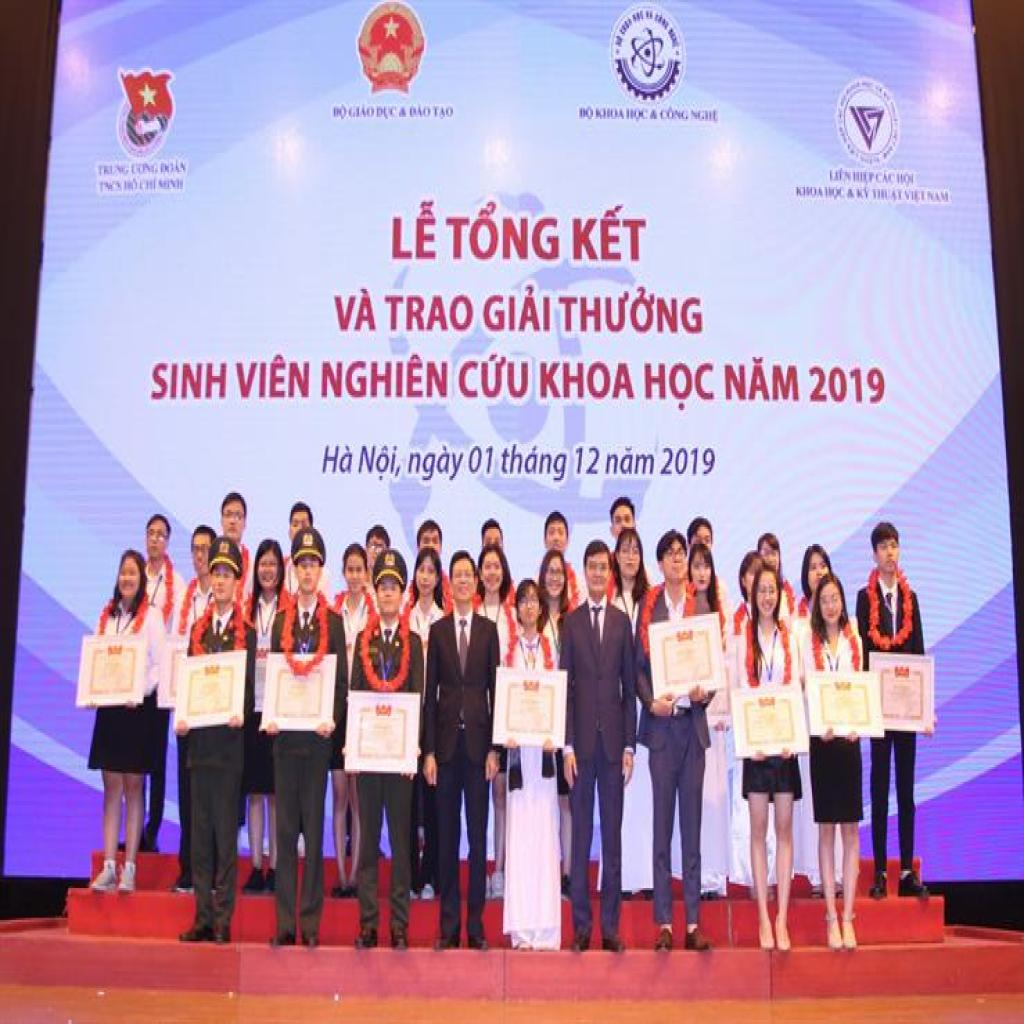text: (446, 198, 561, 266), (557, 287, 705, 338), (321, 352, 449, 402), (572, 206, 648, 264), (540, 359, 638, 402), (384, 293, 475, 336), (644, 361, 715, 414), (457, 354, 532, 404), (724, 357, 802, 404), (482, 284, 552, 336), (234, 355, 310, 401), (808, 363, 887, 406), (496, 440, 571, 484), (150, 361, 228, 402), (392, 198, 439, 264), (404, 444, 470, 487), (333, 284, 378, 334), (356, 444, 405, 484), (658, 446, 719, 478), (603, 446, 657, 478), (322, 444, 358, 478), (571, 444, 604, 478), (467, 444, 496, 480), (871, 187, 905, 204), (660, 104, 690, 123), (692, 108, 719, 126), (626, 106, 650, 126), (796, 185, 824, 202), (852, 168, 877, 187), (97, 164, 130, 178), (349, 104, 376, 121), (596, 106, 626, 121), (160, 160, 188, 176), (158, 176, 186, 192), (434, 104, 456, 123), (830, 168, 854, 185), (377, 104, 398, 123), (876, 168, 896, 187), (896, 170, 916, 189), (132, 162, 159, 176), (410, 102, 432, 119), (824, 185, 846, 202), (905, 189, 928, 204), (140, 176, 159, 194), (580, 104, 594, 125), (856, 185, 873, 202), (100, 181, 124, 193), (333, 104, 349, 121), (123, 179, 140, 191)
